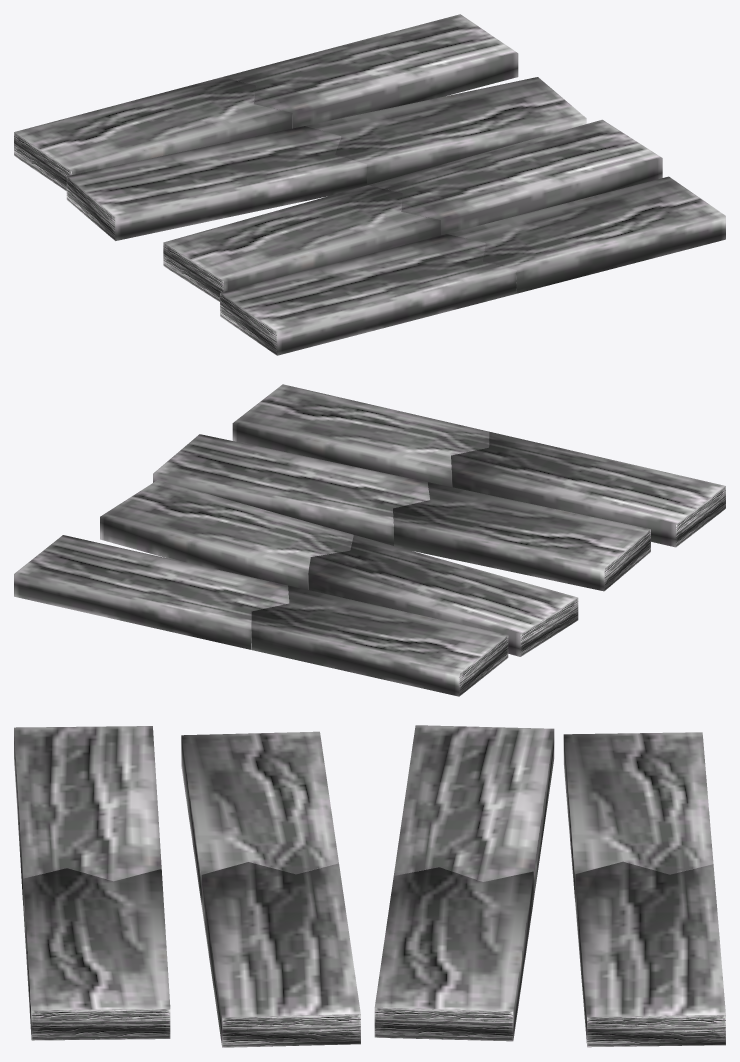
Rendered from INST_SWORDLIGHT_WALLPLAT-BREAKBOARD.fbx.
3 renders of one model, top to bottom at view 1: azimuth 30°, elevation 25°; view 2: azimuth 150°, elevation 25°; view 3: azimuth 270°, elevation 25°, orthographic. The views are drawn at different scales.
Parts seen in each view (by area): view 1: INST_SWORDLIGHT_WALLPLAT-BREAKBOARD; view 2: INST_SWORDLIGHT_WALLPLAT-BREAKBOARD; view 3: INST_SWORDLIGHT_WALLPLAT-BREAKBOARD.
Boxes of the visible parts, <box> form: INST_SWORDLIGHT_WALLPLAT-BREAKBOARD: <box>14,14,725,355</box>; INST_SWORDLIGHT_WALLPLAT-BREAKBOARD: <box>14,384,725,696</box>; INST_SWORDLIGHT_WALLPLAT-BREAKBOARD: <box>14,725,725,1047</box>.
Size of the model in its own units: 18855 by 906 by 19398.
1 material, 1 textured.
